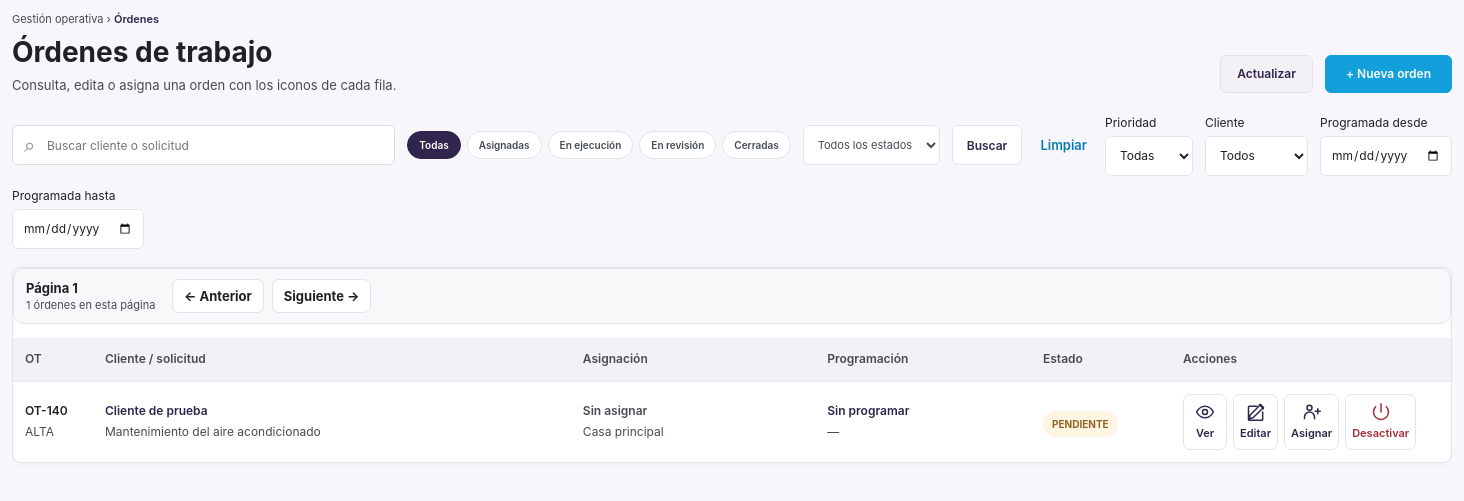
Test: Gestión web de órdenes de trabajo › ignora respuestas anteriores al último filtro de órdenes
Expected: the text "OT-140" is shown, [25, 403, 68, 418]
Click the button "Asignadas".
click(504, 145)  # box [467, 131, 542, 159]
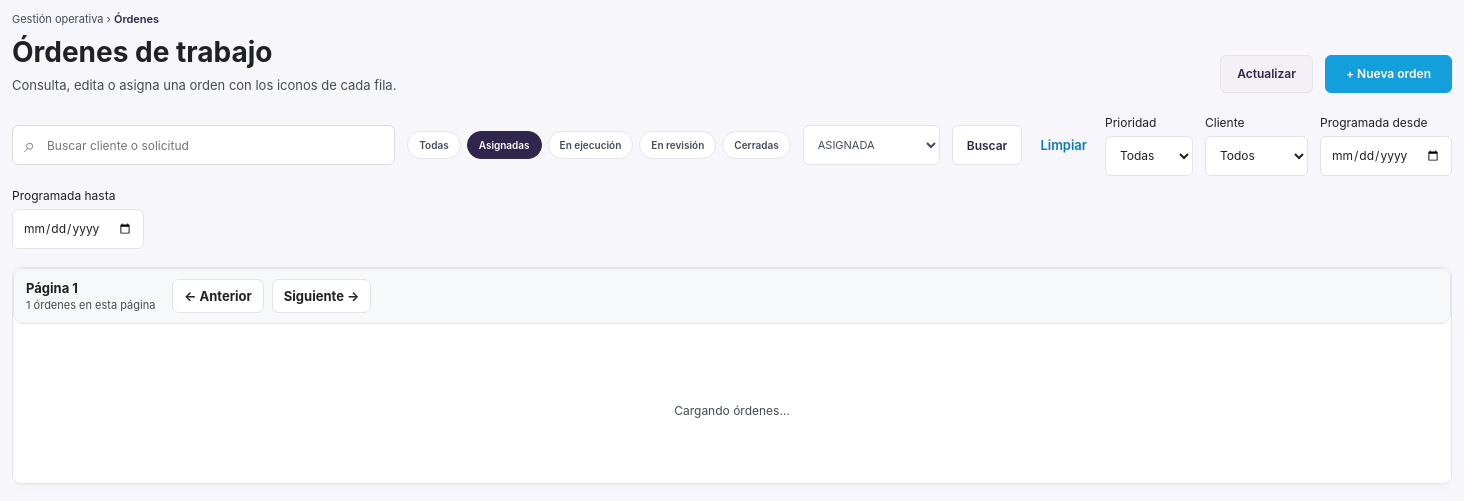
Click the button "Cerradas".
click(757, 145)  # box [722, 131, 791, 159]
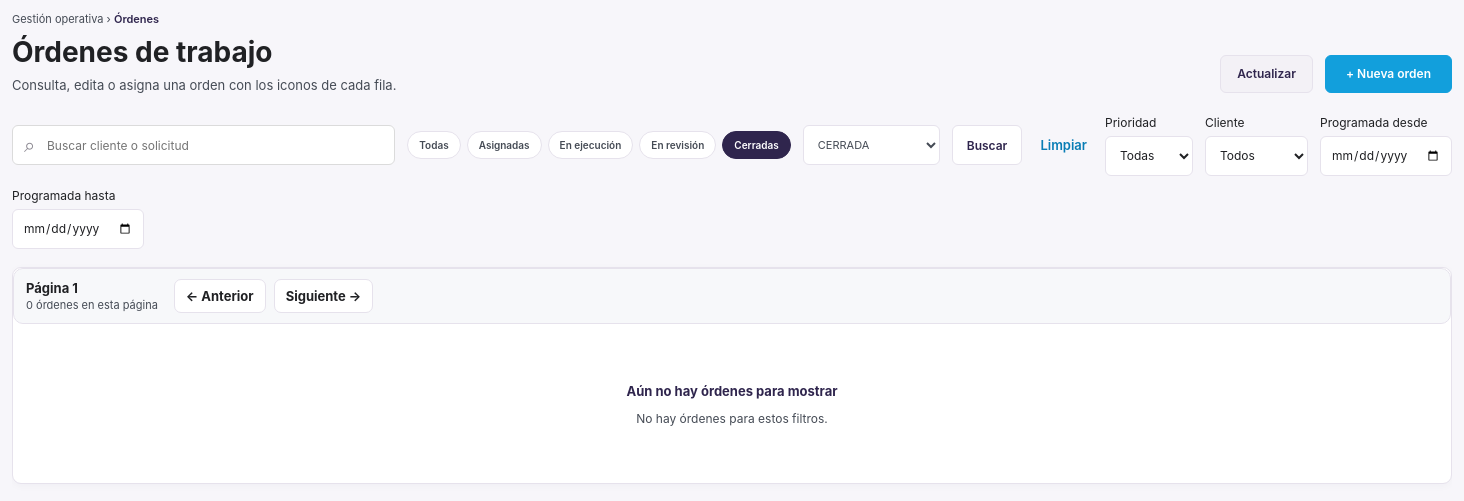
Expected: the text "OT-140" is not shown
Now the text "No hay órdenes para estos filtros." is shown, box [626, 411, 838, 426]
